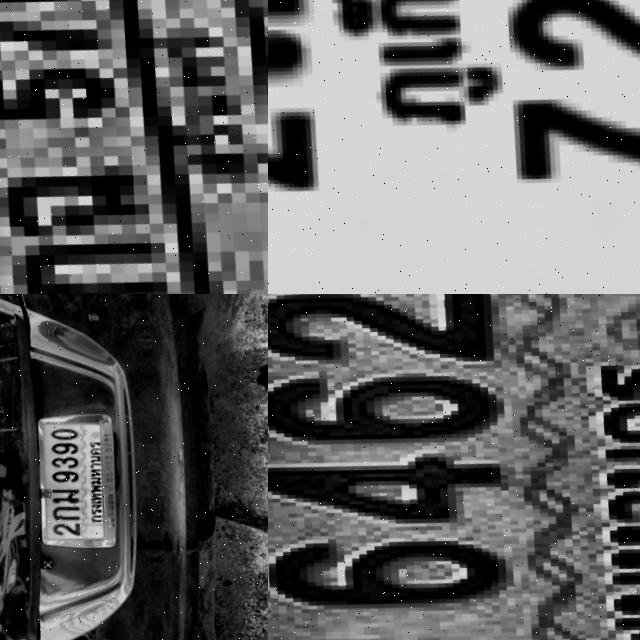license-plate: (268, 294, 640, 640), (268, 0, 640, 294), (0, 0, 268, 294), (23, 392, 135, 547)
